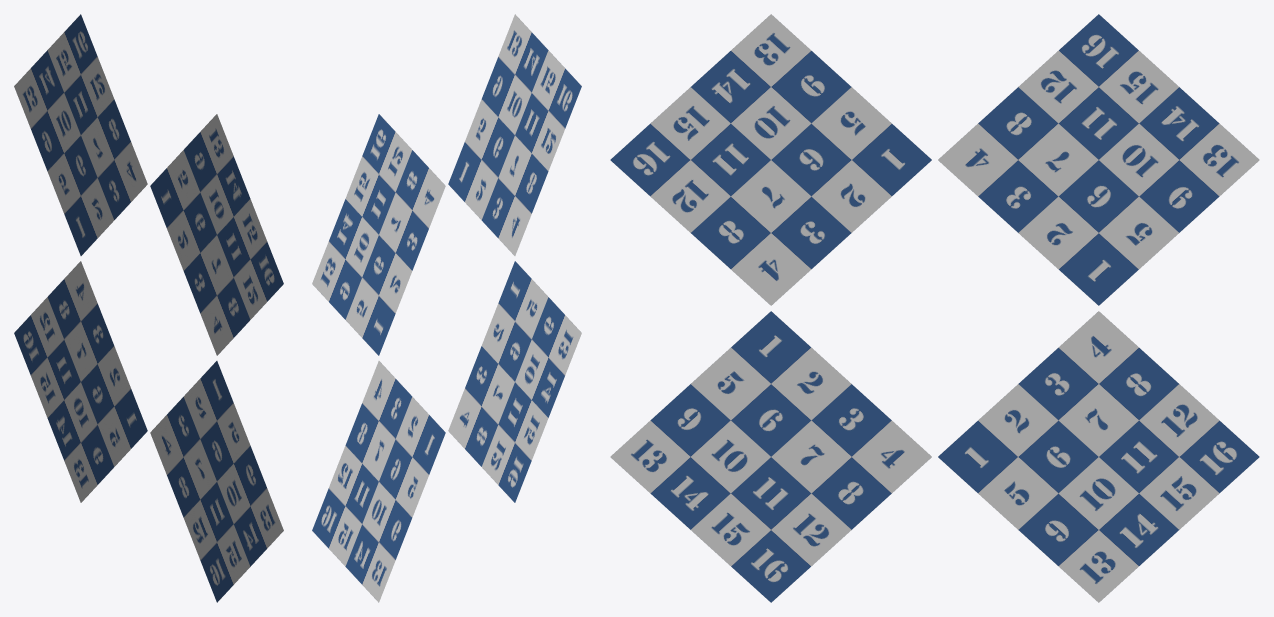
The model's file is Shinobu_Plane.fbx.
3 views of the same model, side by side, from view 1: azimuth 30°, elevation 25°; view 2: azimuth 150°, elevation 25°; view 3: azimuth 270°, elevation 25° (orthographic). The views are drawn at different scales.
Visible parts, largest first — view 1: SM_e_Skl_In_Scmn_Plane002; view 2: SM_e_Skl_In_Scmn_Plane002; view 3: SM_e_Skl_In_Scmn_Plane002.
Boxes of the visible parts, x1,y1,x2,y2 form: SM_e_Skl_In_Scmn_Plane002: [14, 14, 283, 602]; SM_e_Skl_In_Scmn_Plane002: [312, 14, 581, 602]; SM_e_Skl_In_Scmn_Plane002: [610, 14, 1259, 602].
Bounding box in the file's own units: 5.9e-06 × 57.04 × 57.04.
